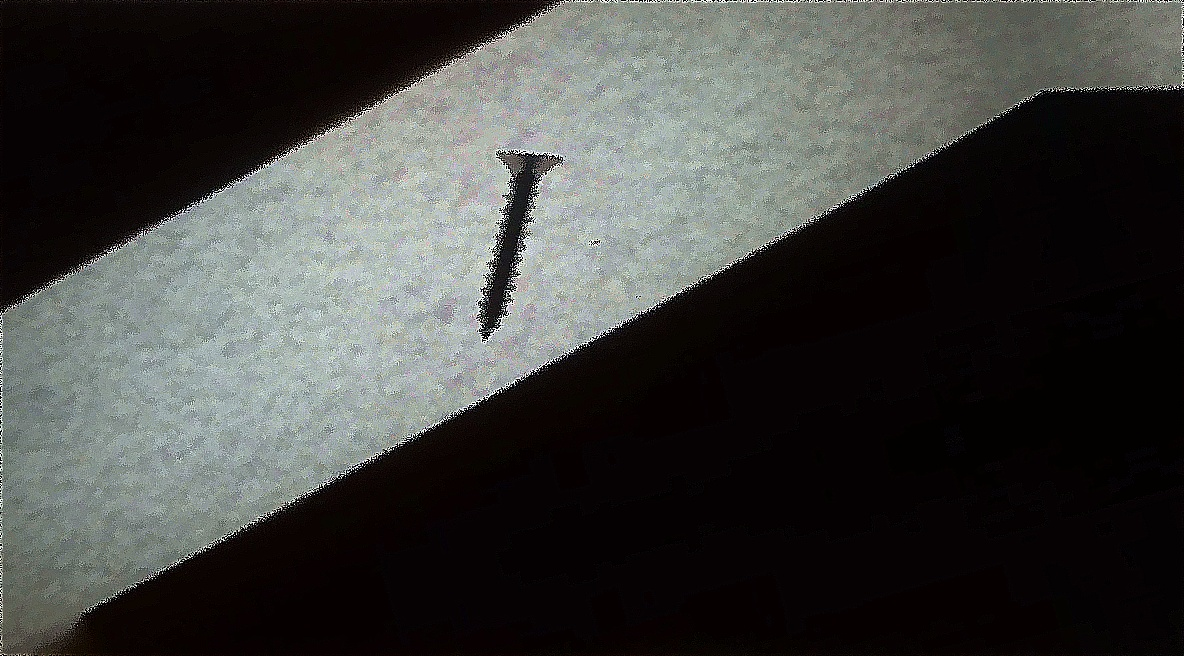S001: (406, 121, 618, 356)
